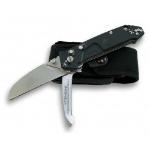Pisau: (6, 25, 144, 107)
